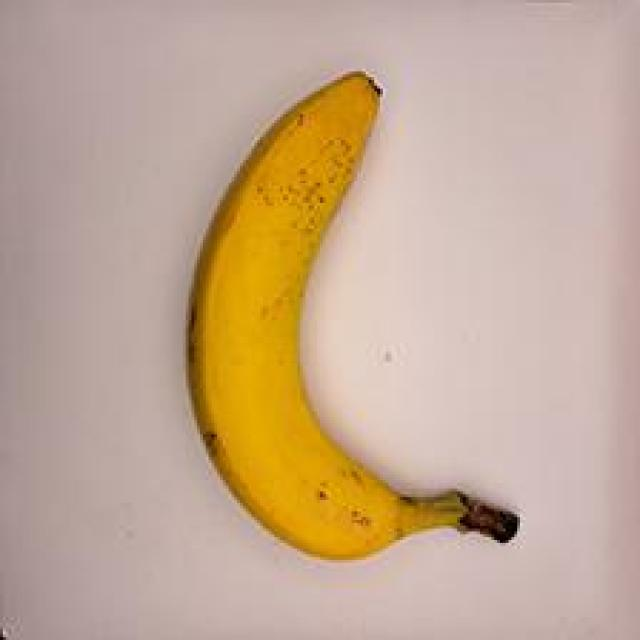Ripe: (153, 47, 539, 584)
